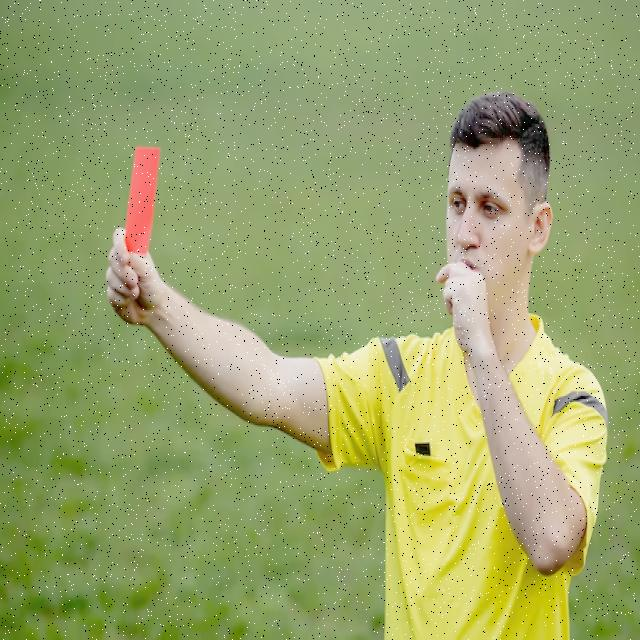red-card: (102, 135, 181, 362)
